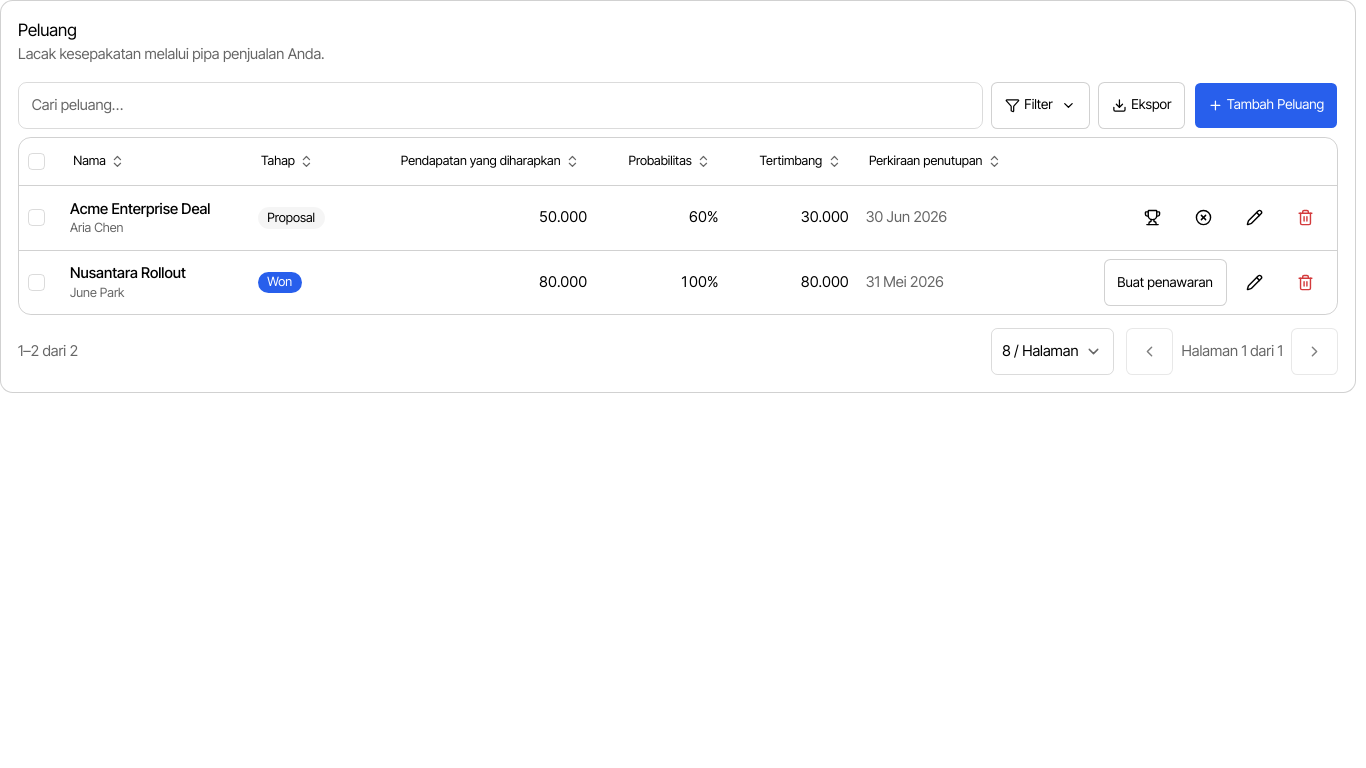
Scenario: OpportunitiesSection › opens the opportunity dialog from the add button
This screenshot has width=1366, height=768.
Expected: the text "Acme Enterprise Deal" is shown, [70,200,210,218]
Click the button "Tambah Peluang": (1266,105) [1194,82,1338,129]
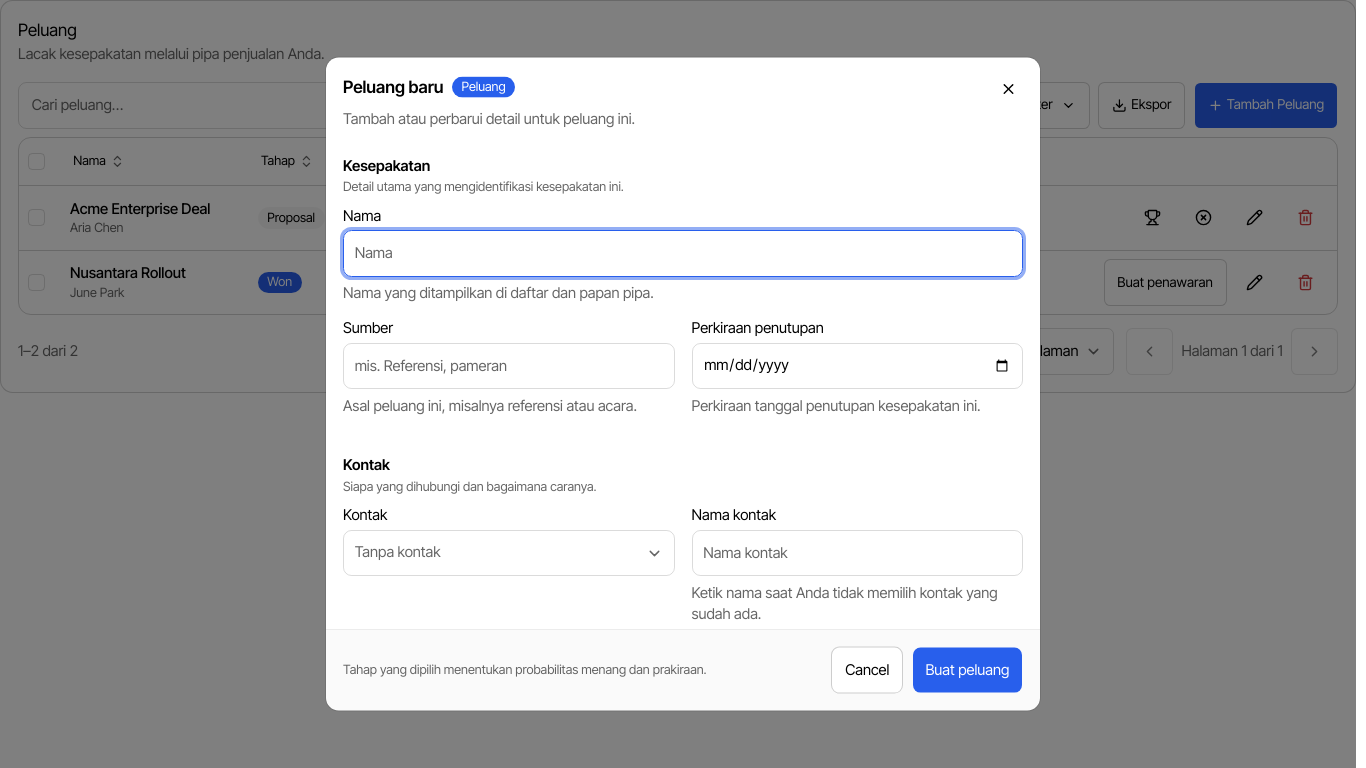
Expected: the dialog is shown, [326,58,1040,710]
Expected: the heading "Peluang baru" is shown, [343,75,444,100]
